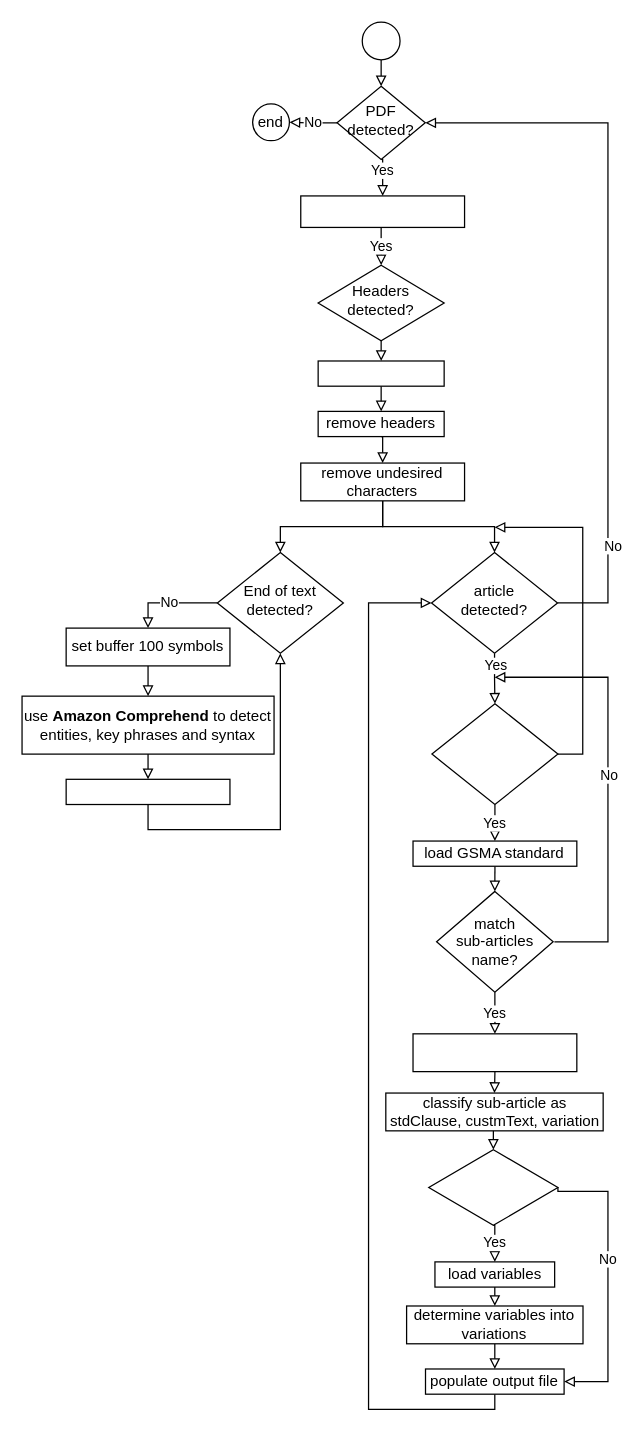
Image size: 643x1441. Some labels were removed from this diagram. Each missing label, with the centre of its shape:
"convert pdf to text" belongs at [380,373].
"determine similarity between sub-articles" belongs at [494,1052].
"Extract document name" belongs at [382,211].
"record variable" belongs at [147,791].
"start" belongs at [380,40].
"sub-article detected?" belongs at [494,753].
"variation?" belongs at [493,1186].
